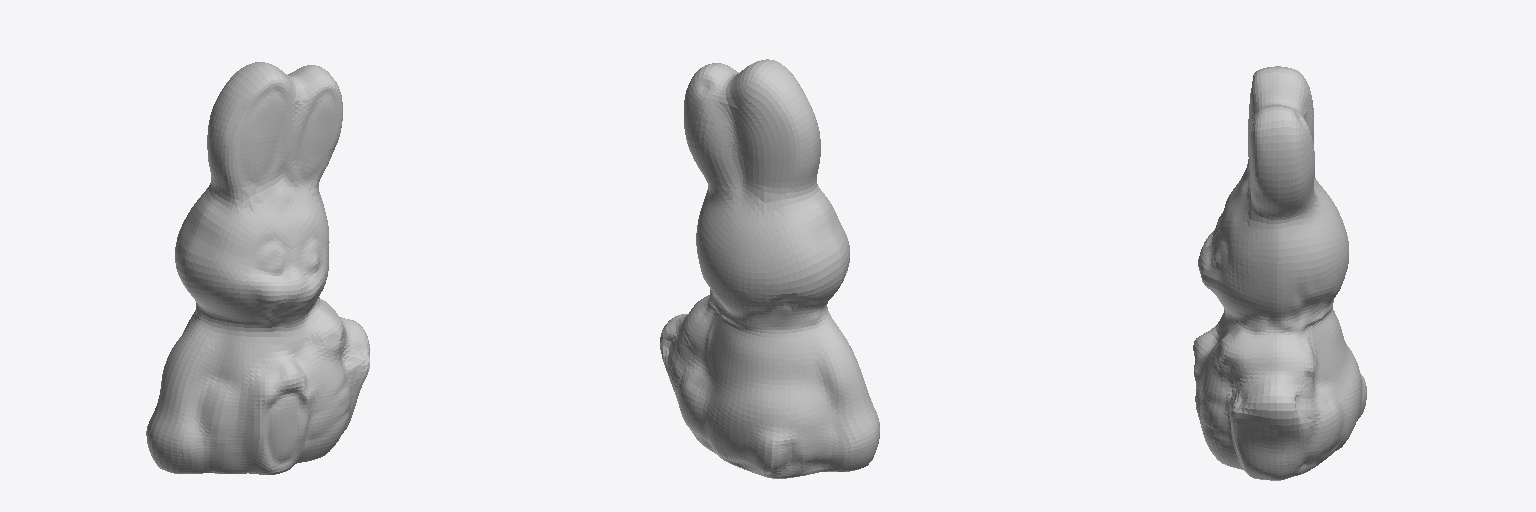
File: bunny.obj
3 views of the same model, side by side, from view 1: azimuth 30°, elevation 25°; view 2: azimuth 150°, elevation 25°; view 3: azimuth 270°, elevation 25° (orthographic).
Visible parts, largest first — view 1: ChocoEasterBunny2.obj; view 2: ChocoEasterBunny2.obj; view 3: ChocoEasterBunny2.obj.
Part boxes in pixels (bbox=[...]): ChocoEasterBunny2.obj: bbox=[146, 62, 369, 474]; ChocoEasterBunny2.obj: bbox=[660, 59, 879, 478]; ChocoEasterBunny2.obj: bbox=[1193, 66, 1366, 480].
Bounding box in the file's own units: 1.18 × 2.03 × 0.8439.